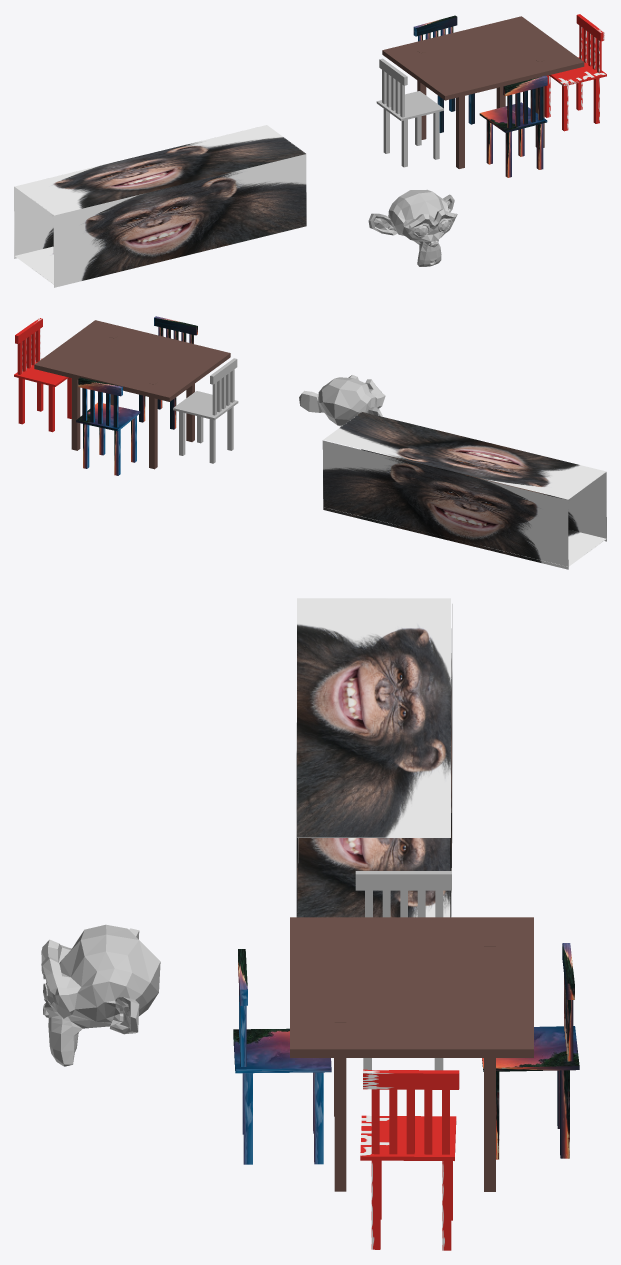
Rendered from drugie.obj.
The picture shows the model from 3 angles, top to bottom: view 1: azimuth 30°, elevation 25°; view 2: azimuth 150°, elevation 25°; view 3: azimuth 270°, elevation 25°; orthographic projection. The views are drawn at different scales.
Parts seen in each view (by area): view 1: Suzanne; view 2: Suzanne; view 3: Suzanne.
Part boxes in pixels (bbox=[...]): Suzanne: bbox=[14, 14, 606, 287]; Suzanne: bbox=[14, 316, 606, 569]; Suzanne: bbox=[41, 598, 579, 1250].
Bounding box in the file's own units: 18.25 × 3.71 × 7.69.
